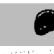correct: (28, 7, 54, 38)
